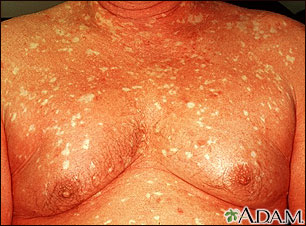Pityriasis Rubra Pilaris: (16, 34, 256, 136)
